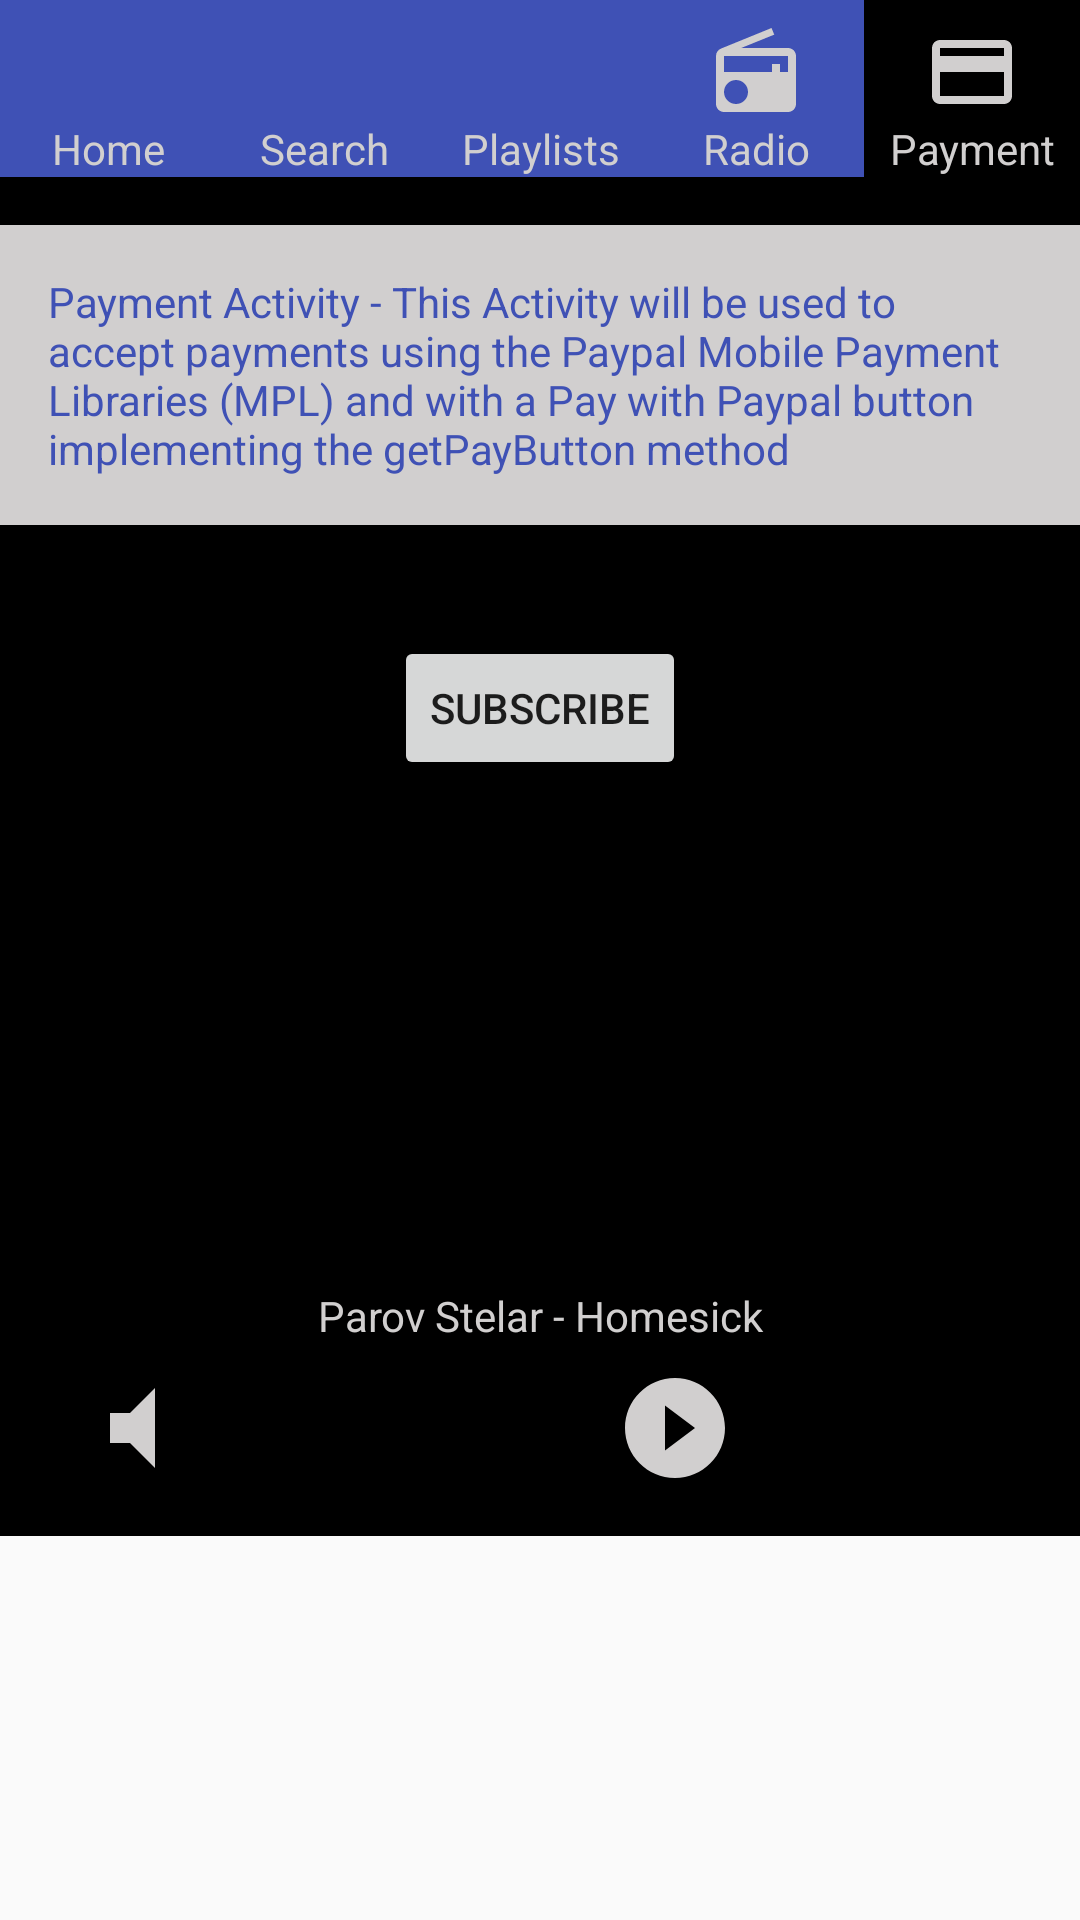

Named icons in this screenshot (1080w x 1920h) and their centers, (x=x, y=y):
credit card: (x=972, y=72)
play circle: (x=675, y=1428)
volume mute: (x=132, y=1428)
